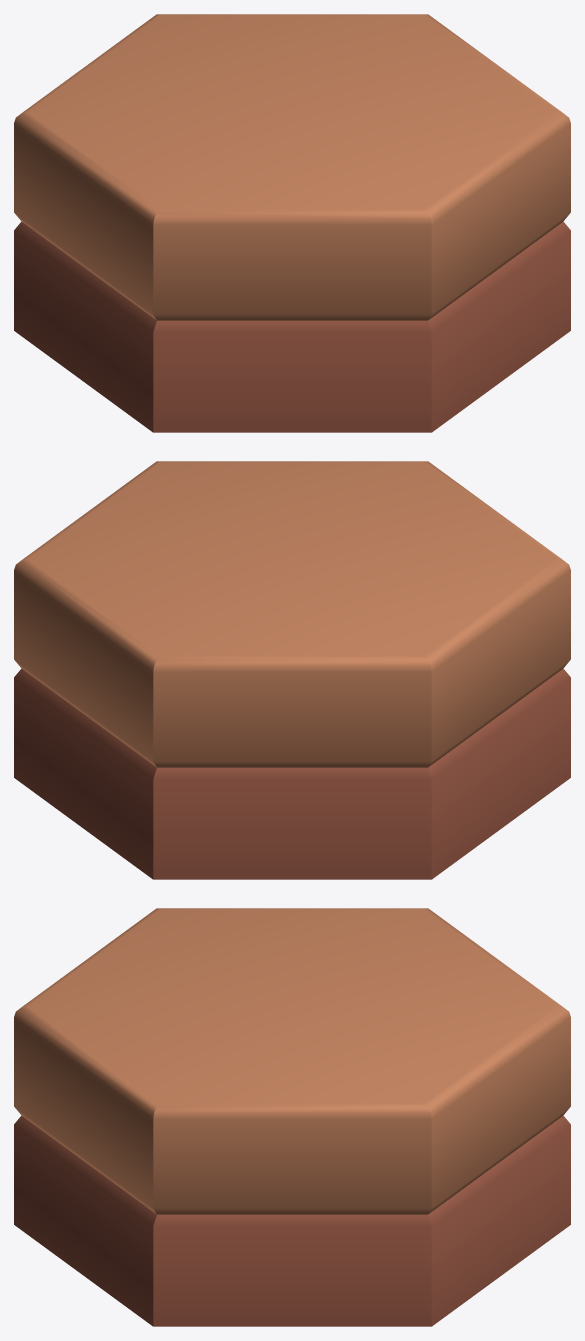
File: hex_rock_detail.glb
3 renders of one model, top to bottom at view 1: azimuth 30°, elevation 25°; view 2: azimuth 150°, elevation 25°; view 3: azimuth 270°, elevation 25°, orthographic.
Parts seen in each view (by area): view 1: hex_rock_detail; view 2: hex_rock_detail; view 3: hex_rock_detail.
Part boxes in pixels (x1=…): hex_rock_detail: x1=14, y1=14, x2=570, y2=432; hex_rock_detail: x1=14, y1=461, x2=570, y2=879; hex_rock_detail: x1=14, y1=908, x2=570, y2=1326.
Size of the model in its own units: 2 by 1 by 2.31.
